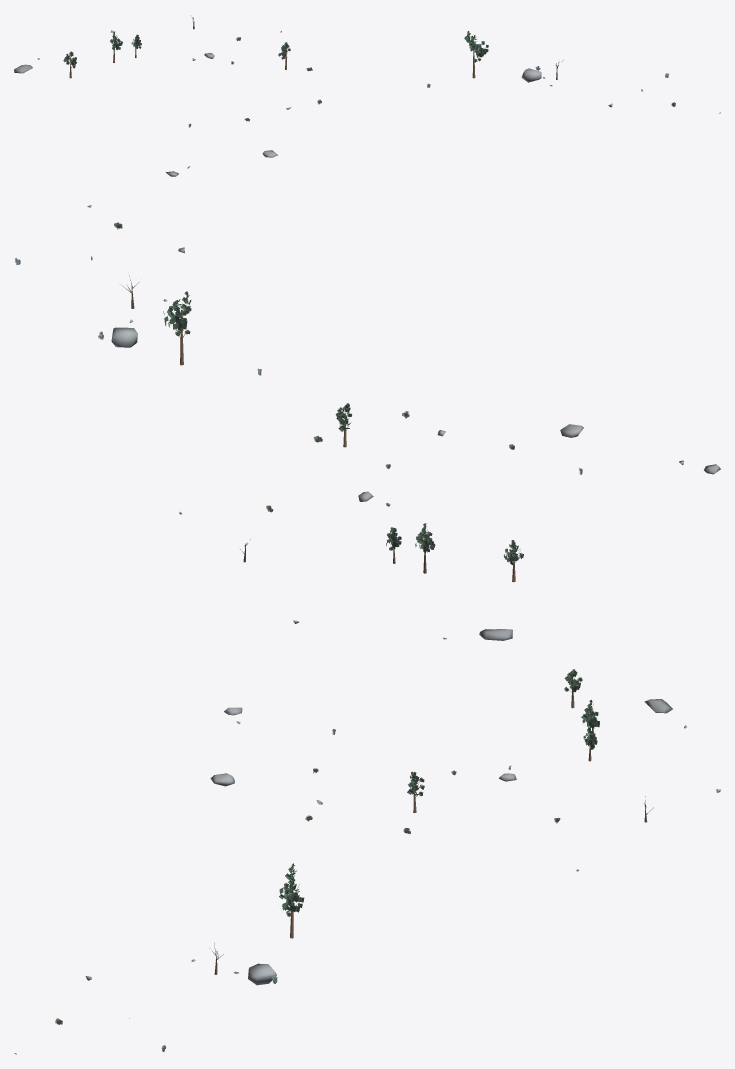
File: frost_land_scatter_c22_12.glb
The picture shows the model from 3 angles, top to bottom: view 1: azimuth 30°, elevation 25°; view 2: azimuth 150°, elevation 25°; view 3: azimuth 270°, elevation 25°; orthographic projection. The views are drawn at different scales.
Parts seen in each view (by area): view 1: frost_land_scatter_c22_12; view 2: frost_land_scatter_c22_12; view 3: frost_land_scatter_c22_12.
Part boxes in pixels (x1,y1,x2,y2): frost_land_scatter_c22_12: (14,17,720,176); frost_land_scatter_c22_12: (14,205,720,640); frost_land_scatter_c22_12: (14,669,720,1054).
Bounding box in the file's own units: 164 × 17.76 × 138.
